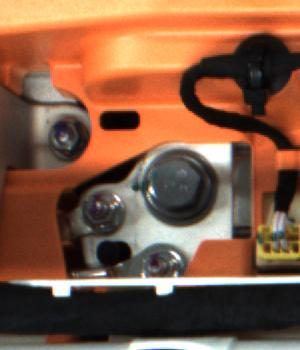nut_b: (139, 142, 219, 228)
screw_s: (87, 192, 132, 234), (43, 118, 83, 162), (142, 246, 178, 276)
